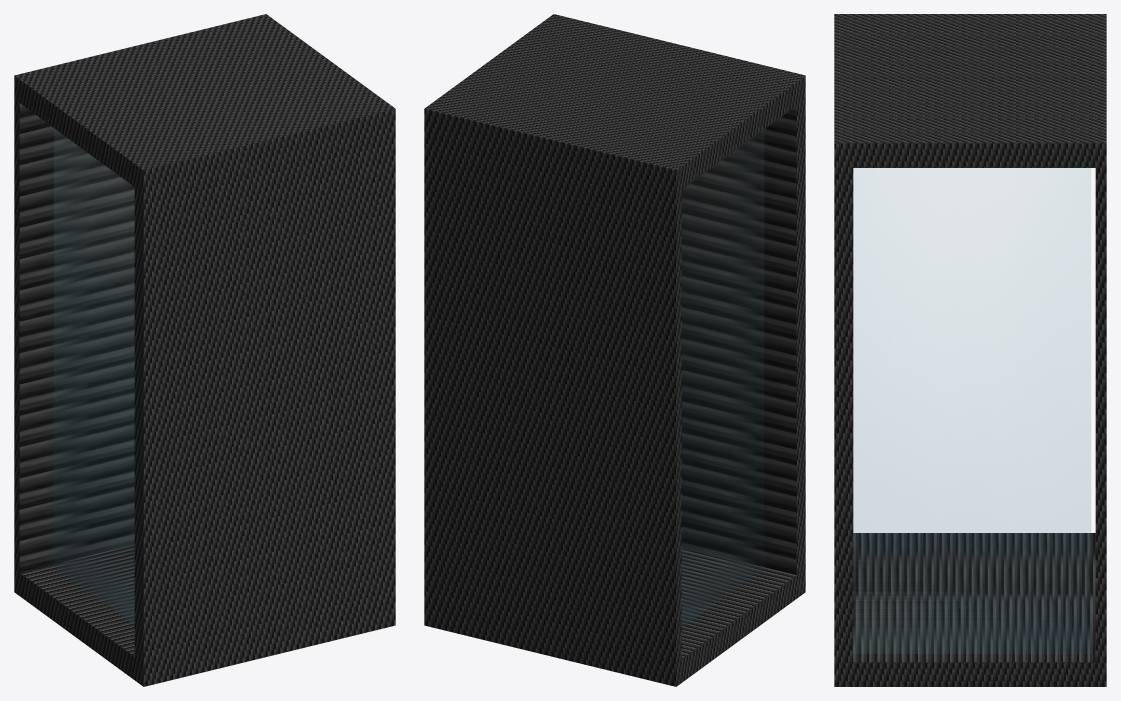
File: cancel2pt2.fbx
The picture shows the model from 3 angles, left to right: view 1: azimuth 30°, elevation 25°; view 2: azimuth 150°, elevation 25°; view 3: azimuth 270°, elevation 25°; orthographic projection. The views are drawn at different scales.
Parts seen in each view (by area): view 1: Default; view 2: Default; view 3: Default.
Boxes of the visible parts, left/top/right/bottom form: Default: left=14, top=14, right=395, bottom=686; Default: left=424, top=14, right=805, bottom=686; Default: left=834, top=14, right=1106, bottom=686.
Size of the model in its own units: 0.5 by 0.9791 by 0.4451.
2 materials, 2 textured.
